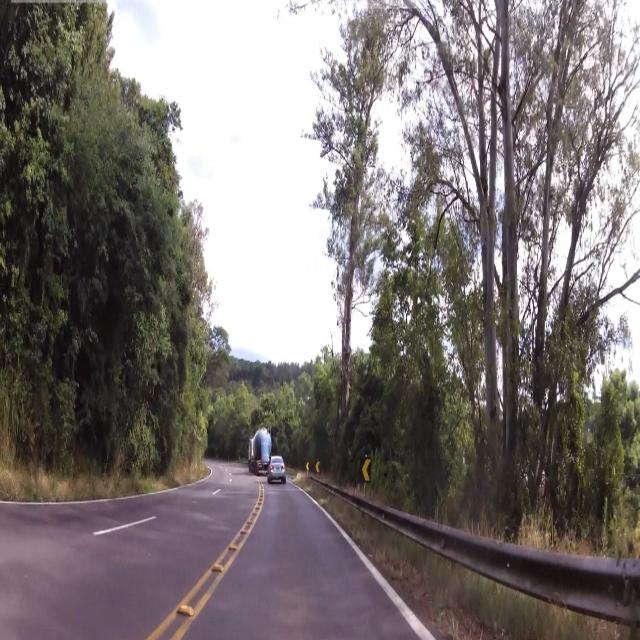Del: (362, 455, 372, 483), (314, 459, 321, 475)
